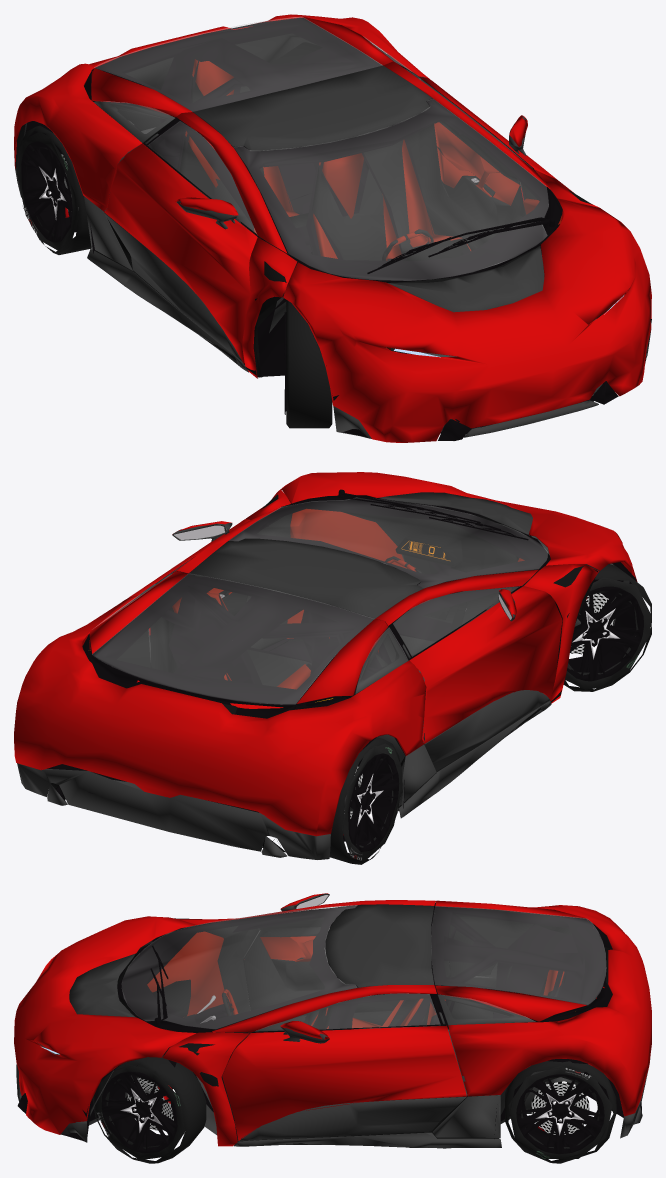
File: car-low.glb
The picture shows the model from 3 angles, top to bottom: view 1: azimuth 30°, elevation 25°; view 2: azimuth 150°, elevation 25°; view 3: azimuth 270°, elevation 25°; orthographic projection. The views are drawn at different scales.
Parts seen in each view (by area): view 1: BodyHood, BodyWindshield, BodyRearwindow, BodyDoorRColor1, BodyRearPanelsColor1, BodyWindshieldGasket, BodyRoofPanel, InteriorSeatsColor2, BodyPillars, InteriorSeatsColor1, InteriorPillar, InteriorRearHatch (+22 smaller); view 2: BodyRearPanelsColor1, BodyRearwindow, BodyWindshield, BodyPanelsColor2, BodyDoorRColor1, BodyRoofPanel, BodyHood, InteriorRearHatch, InteriorPillar, BodyPillars, BodyWindshieldGasket, WheelFrontRRim (+22 smaller); view 3: BodyRearPanelsColor1, BodyWindshield, BodyDoorLColor1, BodyHood, BodyRearwindow, BodyRoofPanel, BodyPillars, BodyWindshieldGasket, BodyDoorLColor2, BodyPanelsColor2, InteriorMid, WheelFrontL (+25 smaller).
Part boxes in pixels (bbox=[...]): BodyHood: bbox=[283, 199, 651, 442]; BodyWindshield: bbox=[234, 99, 548, 280]; BodyRearwindow: bbox=[94, 17, 382, 111]; BodyDoorRColor1: bbox=[104, 143, 257, 363]; BodyRearPanelsColor1: bbox=[14, 14, 429, 211]; BodyWindshieldGasket: bbox=[234, 100, 562, 282]; BodyRoofPanel: bbox=[193, 65, 432, 150]; InteriorSeatsColor2: bbox=[179, 78, 470, 260]; BodyPillars: bbox=[176, 61, 599, 378]; InteriorSeatsColor1: bbox=[185, 59, 471, 258]; InteriorPillar: bbox=[159, 38, 430, 169]; InteriorRearHatch: bbox=[93, 18, 382, 117]; BodyRearPanelsColor1: bbox=[14, 571, 426, 836]; BodyRearwindow: bbox=[92, 574, 373, 704]; BodyWindshield: bbox=[229, 497, 547, 588]; BodyPanelsColor2: bbox=[17, 701, 551, 859]; BodyDoorRColor1: bbox=[409, 586, 562, 743]; BodyRoofPanel: bbox=[189, 538, 422, 618]; BodyHood: bbox=[278, 472, 637, 581]; InteriorRearHatch: bbox=[93, 574, 373, 705]; InteriorPillar: bbox=[174, 576, 417, 706]; BodyPillars: bbox=[172, 490, 599, 703]; BodyWindshieldGasket: bbox=[230, 497, 550, 588]; WheelFrontRRim: bbox=[567, 586, 643, 681]; BodyRearPanelsColor1: bbox=[435, 900, 651, 1116]; BodyWindshield: bbox=[122, 905, 357, 1028]; BodyDoorLColor1: bbox=[222, 1025, 466, 1140]; BodyHood: bbox=[14, 916, 196, 1134]; BodyRearwindow: bbox=[431, 906, 606, 1004]; BodyRoofPanel: bbox=[325, 904, 434, 987]; BodyPillars: bbox=[162, 900, 436, 1146]; BodyWindshieldGasket: bbox=[117, 906, 356, 1033]; BodyDoorLColor2: bbox=[239, 1096, 466, 1140]; BodyPanelsColor2: bbox=[16, 976, 650, 1148]; InteriorMid: bbox=[174, 918, 499, 1144]; WheelFrontL: bbox=[92, 1055, 206, 1163].
Bounding box in the file's own units: 2.54 × 1.15 × 4.35.
Materials: 22 (5 with a texture image).
